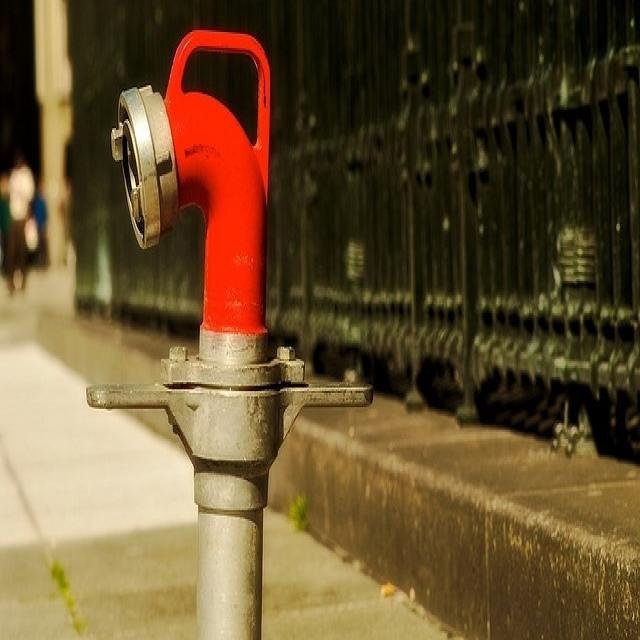fire_hydrant: (86, 44, 362, 640)
